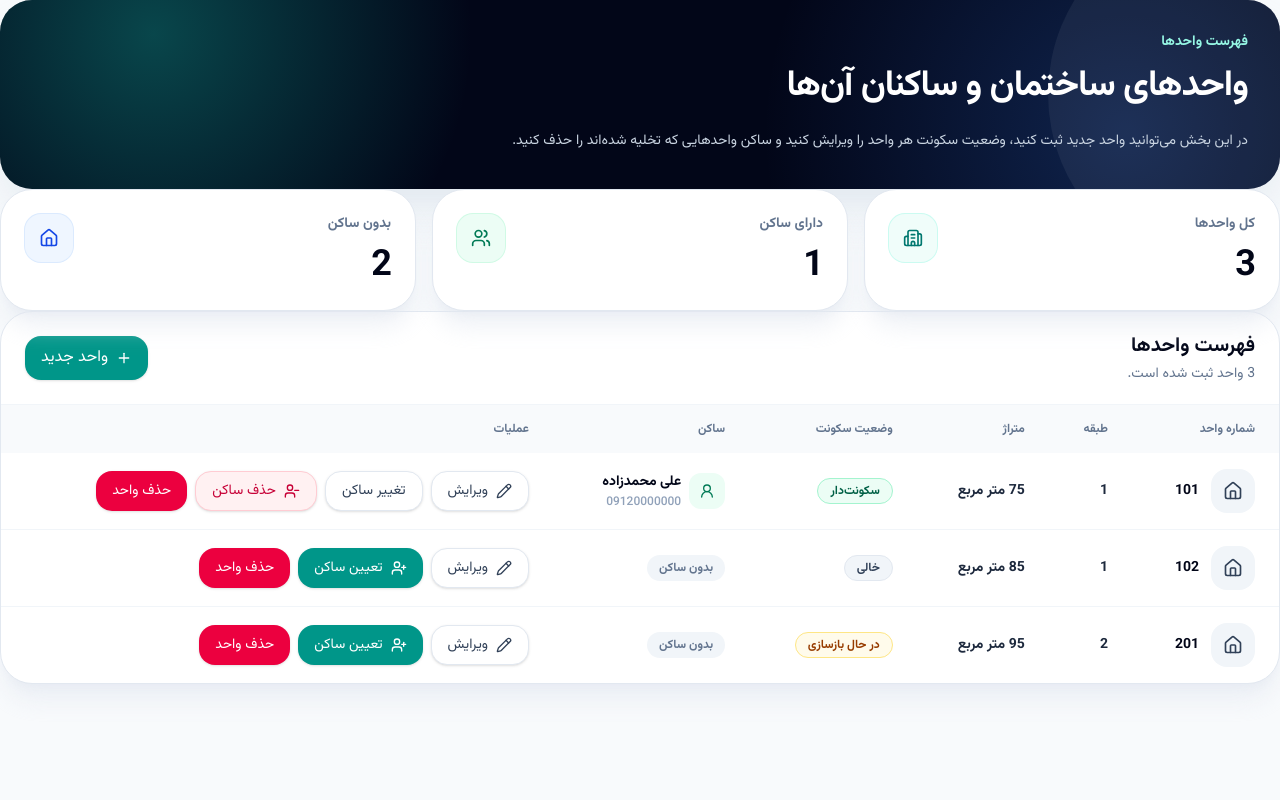
Test case: UnitsSection › asks for confirmation before unlinking, then PATCHes resident_id: null
Click the button with aria-label "حذف ساکن واحد 101" at (256, 491), box [195,471,317,511]
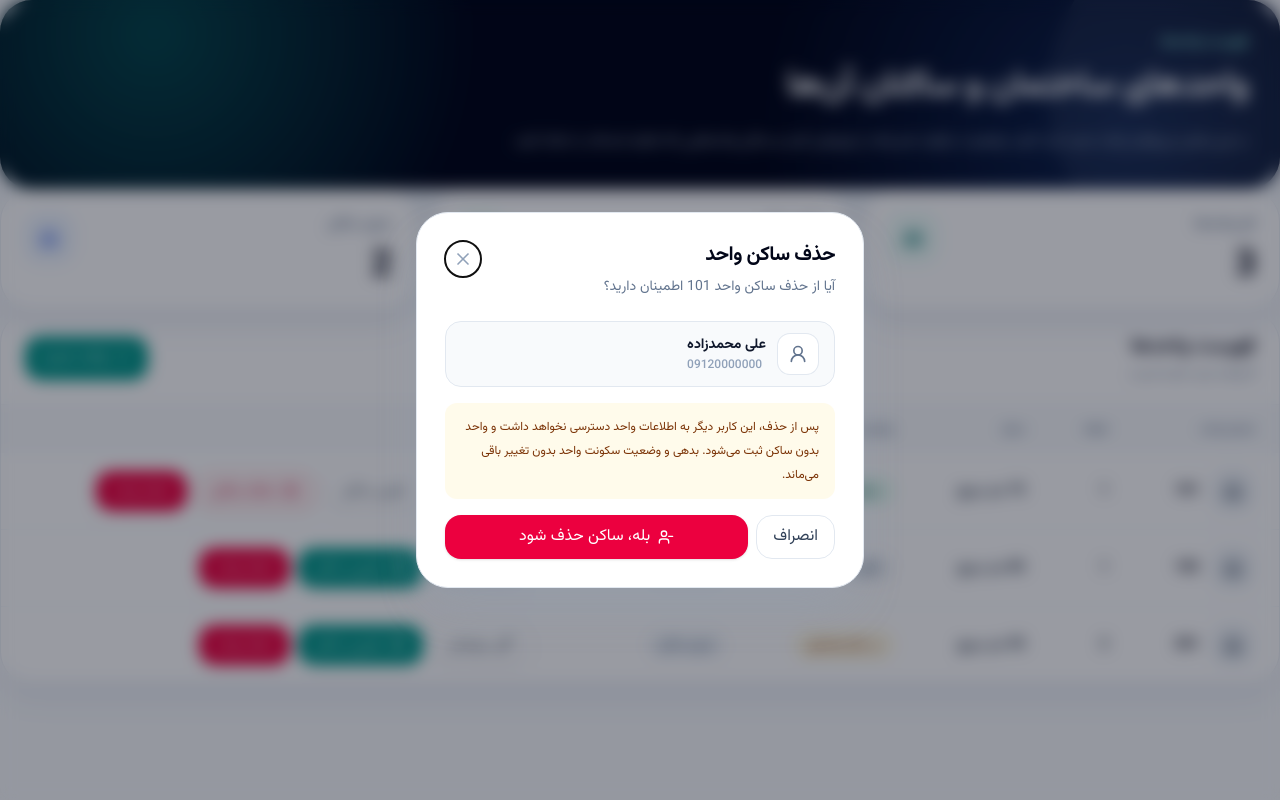
Check: the text "آیا از حذف ساکن واحد 101 اطمینان دارید؟" is shown, box [604,273,835,301]
Check: the text "علی محمدزاده" is shown, box [687,335,766,355]
Click the button "بله، ساکن حذف شود" at (597, 537), box [445,515,748,559]
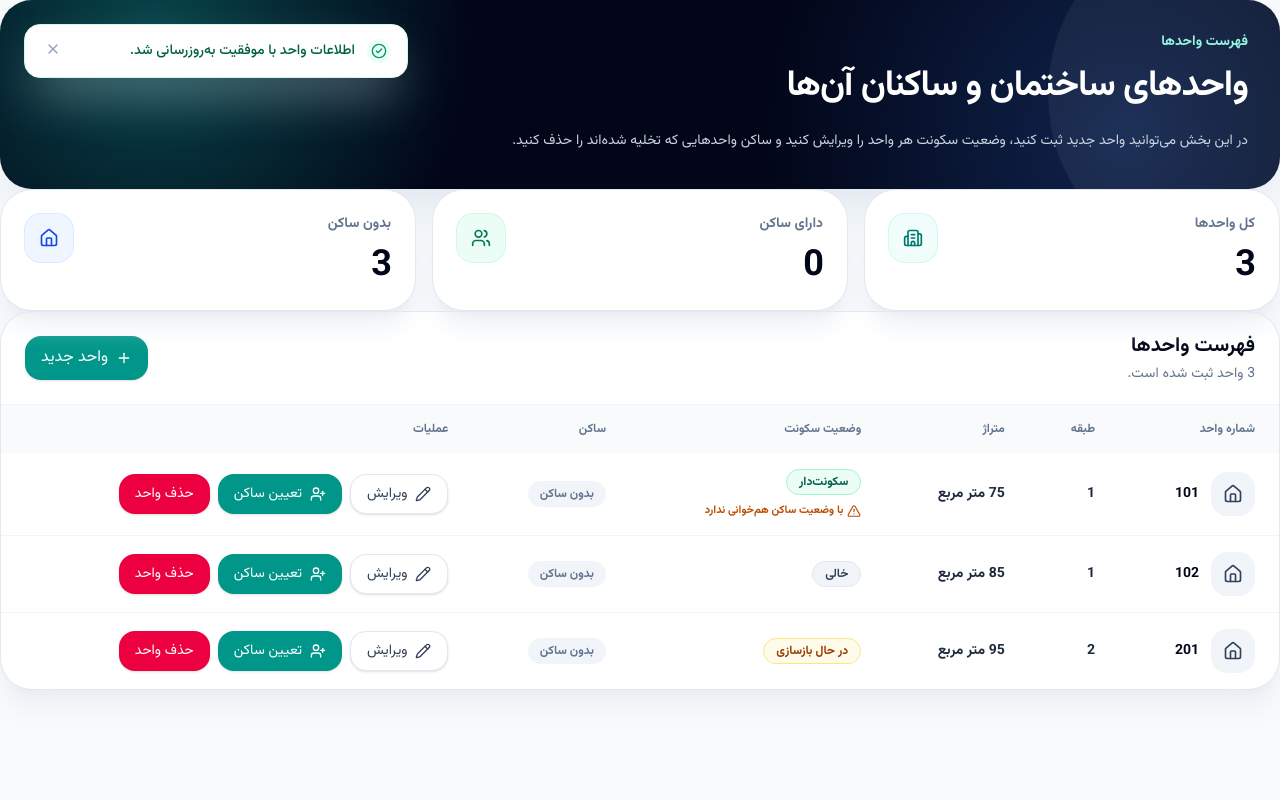
Check: the text "بدون ساکن" in the row of "101" is shown, box [540,485,594,503]
Check: the text "اطلاعات واحد با موفقیت به‌روزرسانی شد." is shown, box [130,40,355,62]
Check: the button "حذف ساکن" is gone
